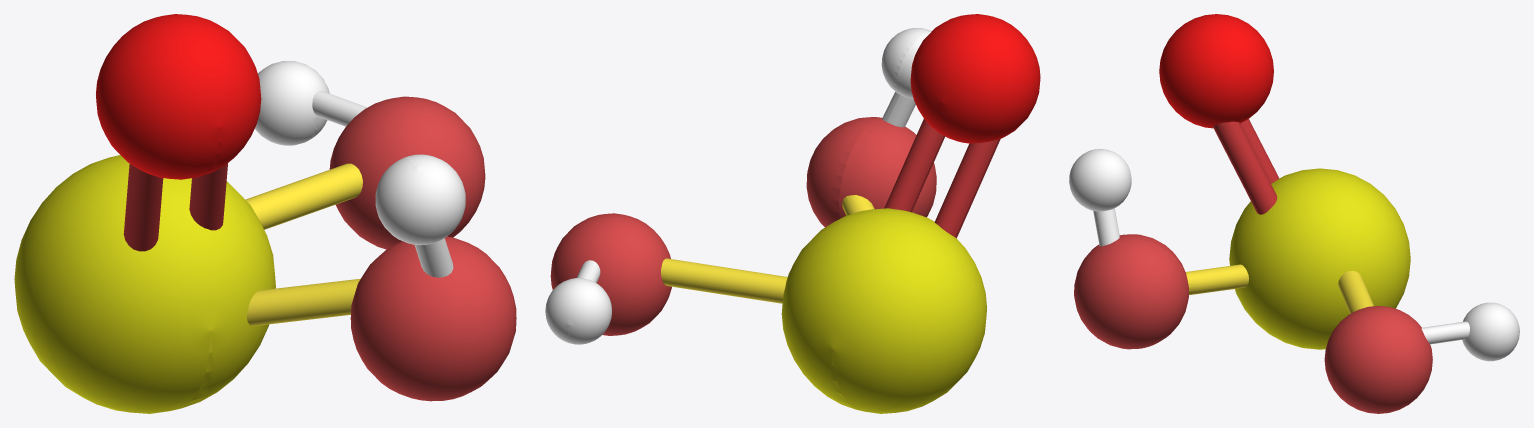
The picture shows the model from 3 angles, left to right: view 1: azimuth 30°, elevation 25°; view 2: azimuth 150°, elevation 25°; view 3: azimuth 270°, elevation 25°; orthographic projection. The views are drawn at different scales.
Visible parts, largest first — view 1: Sphere003, Sphere004, Sphere005, Sphere001, Sphere006, Sphere002, Cylinder002, Cylinder005, Cylinder003, Cylinder004, Cylinder001, Cylinder006; view 2: Sphere003, Sphere004, Sphere001, Sphere005, Sphere002, Cylinder002, Cylinder003, Cylinder004, Sphere006, Cylinder006, Cylinder005; view 3: Sphere003, Sphere005, Sphere004, Sphere001, Sphere006, Sphere002, Cylinder004, Cylinder005, Cylinder002, Cylinder001, Cylinder006, Cylinder003.
Boxes of the visible parts, x1,y1,x2,y2 form: Sphere003: (14, 155, 275, 413); Sphere004: (96, 14, 261, 179); Sphere005: (350, 236, 516, 401); Sphere001: (329, 96, 485, 249); Sphere006: (375, 154, 465, 245); Sphere002: (254, 61, 329, 145); Cylinder002: (245, 163, 362, 229); Cylinder005: (247, 278, 360, 326); Cylinder003: (123, 164, 163, 251); Cylinder004: (189, 163, 227, 230); Cylinder001: (312, 91, 367, 126); Cylinder006: (414, 238, 453, 277); Sphere003: (781, 208, 986, 413); Sphere004: (910, 14, 1040, 143); Sphere001: (550, 213, 671, 335); Sphere005: (806, 117, 936, 227); Sphere002: (545, 278, 611, 344); Cylinder002: (661, 258, 787, 303); Cylinder003: (934, 139, 1000, 238); Cylinder004: (884, 119, 945, 212); Sphere006: (881, 28, 931, 98); Cylinder006: (882, 92, 915, 127); Cylinder005: (842, 195, 874, 215); Sphere003: (1229, 168, 1410, 349); Sphere005: (1074, 234, 1188, 349); Sphere004: (1159, 14, 1273, 128); Sphere001: (1324, 306, 1432, 413); Sphere006: (1069, 149, 1131, 211); Sphere002: (1462, 302, 1519, 361); Cylinder004: (1213, 121, 1277, 214); Cylinder005: (1185, 264, 1248, 294); Cylinder002: (1338, 270, 1373, 313); Cylinder001: (1421, 321, 1469, 344); Cylinder006: (1093, 208, 1119, 246); Cylinder003: (1240, 119, 1279, 183).
Size of the model in its own units: 20.21 by 17.68 by 23.45.
